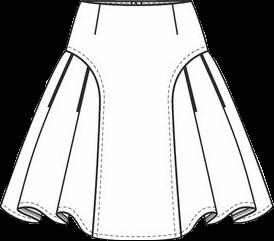Hemline: (181, 202, 273, 237), (0, 204, 90, 235)
Waistline: (169, 50, 208, 238), (64, 49, 100, 238), (80, 0, 191, 7)
